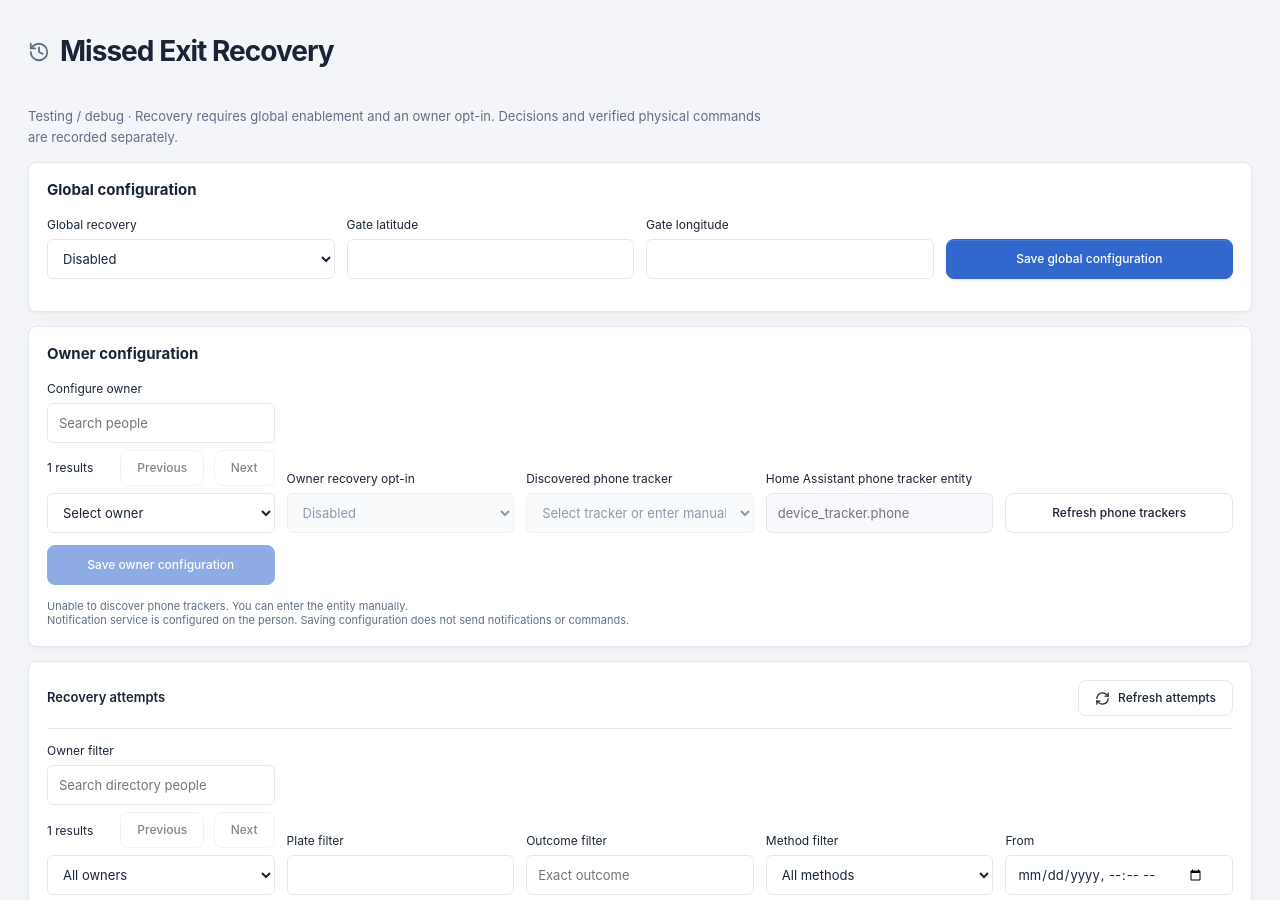
Test: reports rejected settings without displaying a success
The width and height of the screenshot is (1280, 900).
Click the button "Save global configuration".
click(1089, 259)  # box x1=946 y1=239 x2=1233 y2=279
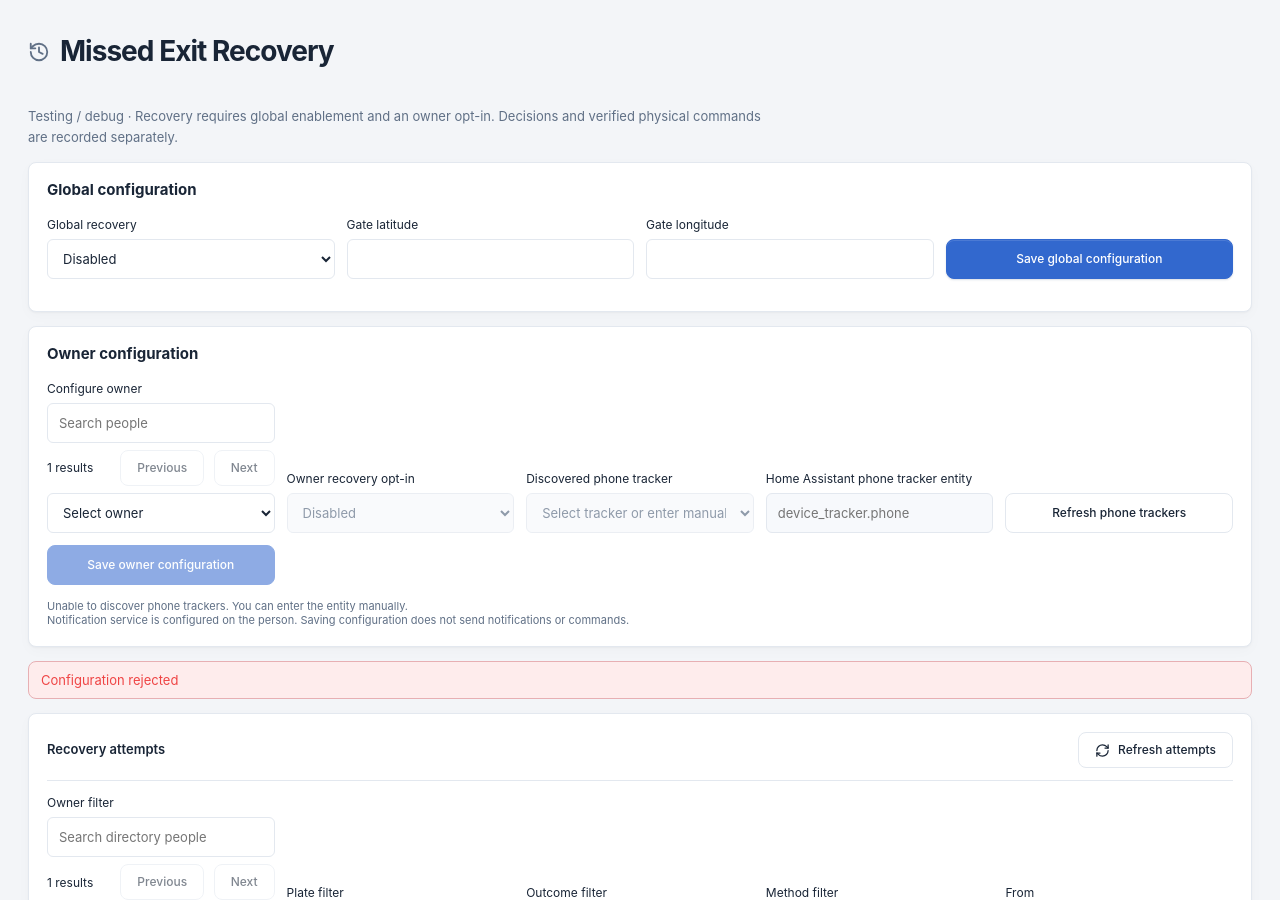
Now the message reads "Configuration rejected", box x1=41 y1=672 x2=178 y2=688
